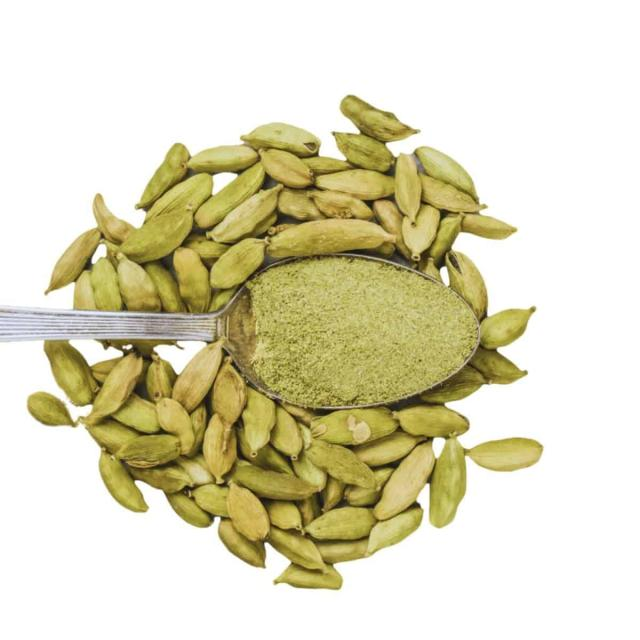Cardamom: (89, 410, 544, 596), (53, 89, 521, 265)
